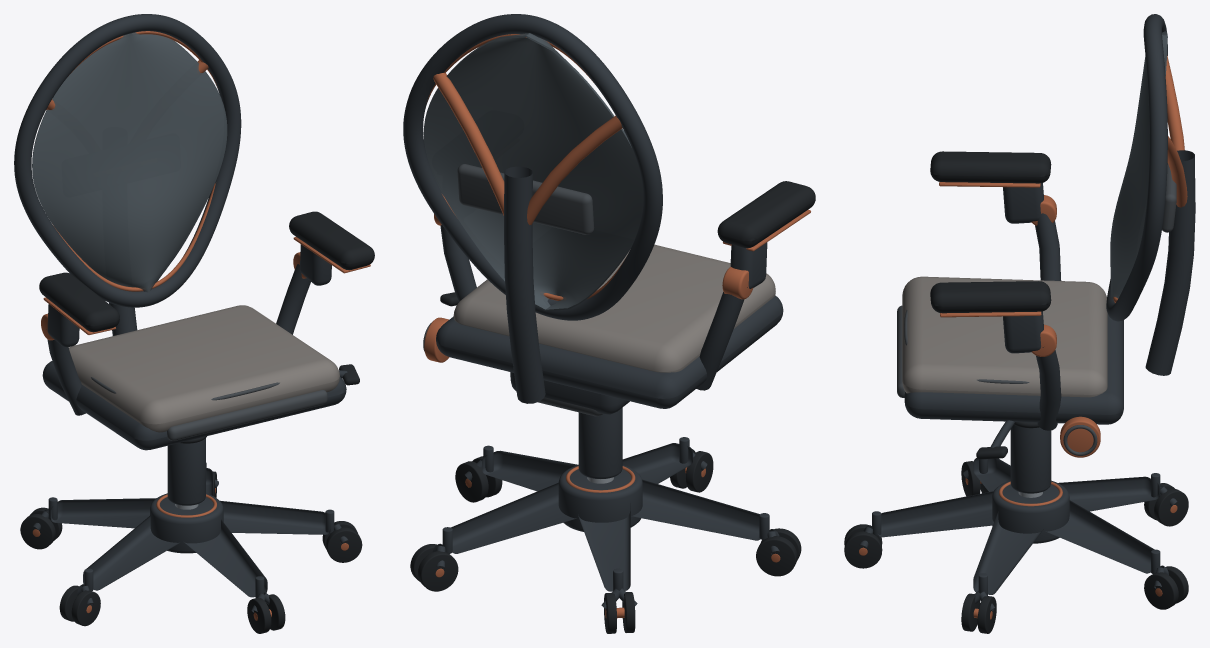
The model's file is vela-chair.glb.
The picture shows the model from 3 angles, left to right: view 1: azimuth 30°, elevation 25°; view 2: azimuth 150°, elevation 25°; view 3: azimuth 270°, elevation 25°; orthographic projection. The views are drawn at different scales.
Visible parts, largest first — view 1: Back_Suspension_Membrane, Seat_Cushion, Back_Outer_Frame, Seat_Pan, Base_Hub, Base_Leg_01, Arm_R_Pad, Arm_L_Pad, Base_Leg_04, Base_Leg_03, Seat_Front_Flex_Edge, Base_Leg_00 (+11 smaller); view 2: Back_Suspension_Membrane, Seat_Cushion, Back_Outer_Frame, Seat_Pan, Back_Central_Mast, Base_Leg_04, Base_Leg_02, Base_Hub, Lumbar_Support, Arm_L_Pad, Gas_Lift_Outer, Base_Leg_03 (+15 smaller); view 3: Seat_Cushion, Seat_Pan, Back_Outer_Frame, Back_Central_Mast, Back_Suspension_Membrane, Arm_L_Pad, Arm_R_Pad, Base_Leg_00, Base_Leg_02, Base_Hub, Gas_Lift_Outer, Base_Leg_03 (+17 smaller).
Part boxes in pixels (left/top/right/bottom): Back_Suspension_Membrane: left=32, top=32, right=227, bottom=292; Seat_Cushion: left=68, top=305, right=339, bottom=432; Back_Outer_Frame: left=14, top=14, right=241, bottom=307; Seat_Pan: left=42, top=361, right=346, bottom=450; Base_Hub: left=150, top=493, right=223, bottom=553; Base_Leg_01: left=220, top=500, right=330, bottom=534; Arm_R_Pad: left=289, top=211, right=374, bottom=270; Arm_L_Pad: left=39, top=272, right=119, bottom=332; Base_Leg_04: left=83, top=515, right=180, bottom=590; Base_Leg_03: left=50, top=498, right=156, bottom=528; Seat_Front_Flex_Edge: left=167, top=390, right=327, bottom=440; Base_Leg_00: left=184, top=519, right=267, bottom=597; Back_Suspension_Membrane: left=423, top=33, right=643, bottom=311; Seat_Cushion: left=453, top=244, right=775, bottom=372; Back_Outer_Frame: left=403, top=14, right=662, bottom=320; Seat_Pan: left=436, top=295, right=783, bottom=408; Back_Central_Mast: left=504, top=166, right=545, bottom=403; Base_Leg_04: left=631, top=479, right=761, bottom=540; Base_Leg_02: left=451, top=482, right=576, bottom=553; Base_Hub: left=558, top=465, right=642, bottom=531; Lumbar_Support: left=457, top=164, right=594, bottom=234; Arm_L_Pad: left=717, top=181, right=815, bottom=248; Gas_Lift_Outer: left=578, top=407, right=622, bottom=478; Base_Leg_03: left=578, top=503, right=630, bottom=591; Seat_Cushion: left=902, top=276, right=1107, bottom=397; Seat_Pan: left=904, top=313, right=1123, bottom=424; Back_Outer_Frame: left=1106, top=14, right=1167, bottom=321; Back_Central_Mast: left=1145, top=150, right=1195, bottom=375; Back_Suspension_Membrane: left=1110, top=31, right=1167, bottom=298; Arm_L_Pad: left=930, top=151, right=1051, bottom=183; Arm_R_Pad: left=930, top=281, right=1051, bottom=313; Base_Leg_00: left=877, top=491, right=993, bottom=537; Base_Leg_02: left=1045, top=500, right=1154, bottom=573; Base_Hub: left=992, top=480, right=1069, bottom=543; Gas_Lift_Outer: left=1010, top=422, right=1051, bottom=493; Base_Leg_03: left=1058, top=476, right=1159, bottom=511.
Bounding box in the file's own units: 0.7788 × 1.26 × 0.7439.
